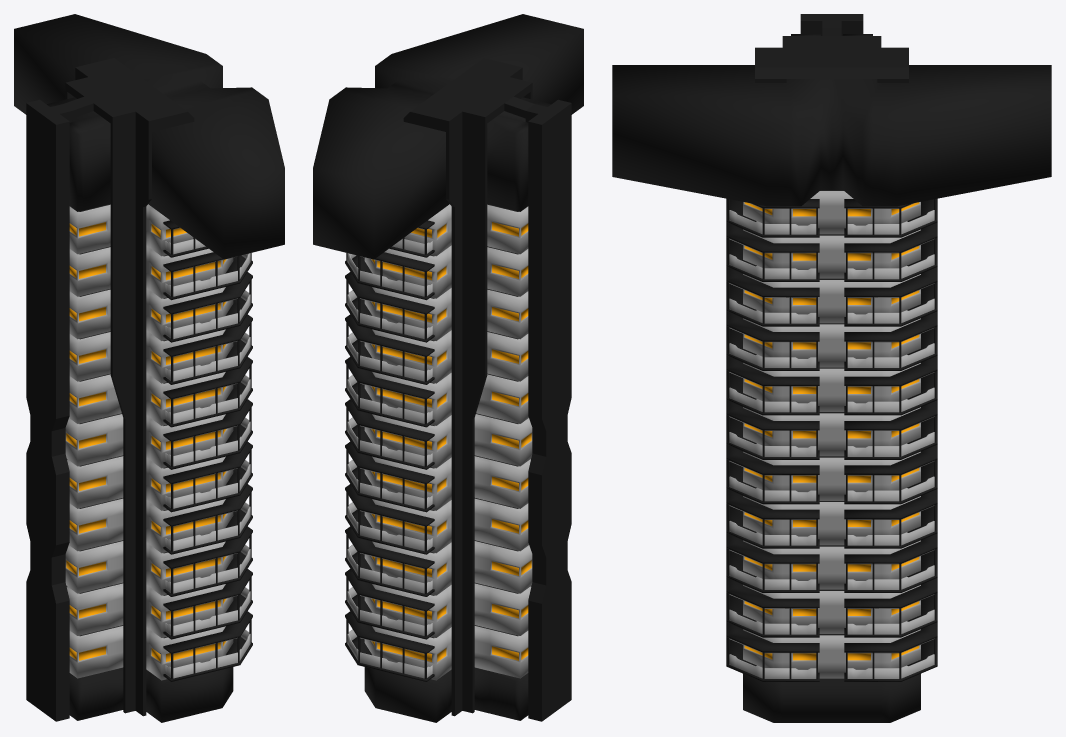
The model's file is HammerSharkBuilding.001.fbx.
3 views of the same model, side by side, from view 1: azimuth 30°, elevation 25°; view 2: azimuth 150°, elevation 25°; view 3: azimuth 270°, elevation 25° (orthographic). The views are drawn at different scales.
Visible parts, largest first — view 1: HammerSharkBuilding, HammerSharkBuildingPt2; view 2: HammerSharkBuilding, HammerSharkBuildingPt2; view 3: HammerSharkBuilding, HammerSharkBuildingPt2.
Part boxes in pixels (left/top/right/bottom): HammerSharkBuilding: left=14, top=14, right=284, bottom=722; HammerSharkBuildingPt2: left=26, top=58, right=194, bottom=721; HammerSharkBuilding: left=313, top=14, right=583, bottom=722; HammerSharkBuildingPt2: left=403, top=58, right=571, bottom=721; HammerSharkBuilding: left=612, top=34, right=1051, bottom=722; HammerSharkBuildingPt2: left=755, top=14, right=908, bottom=82.
Size of the model in its own units: 26.65 by 77.69 by 49.31.
